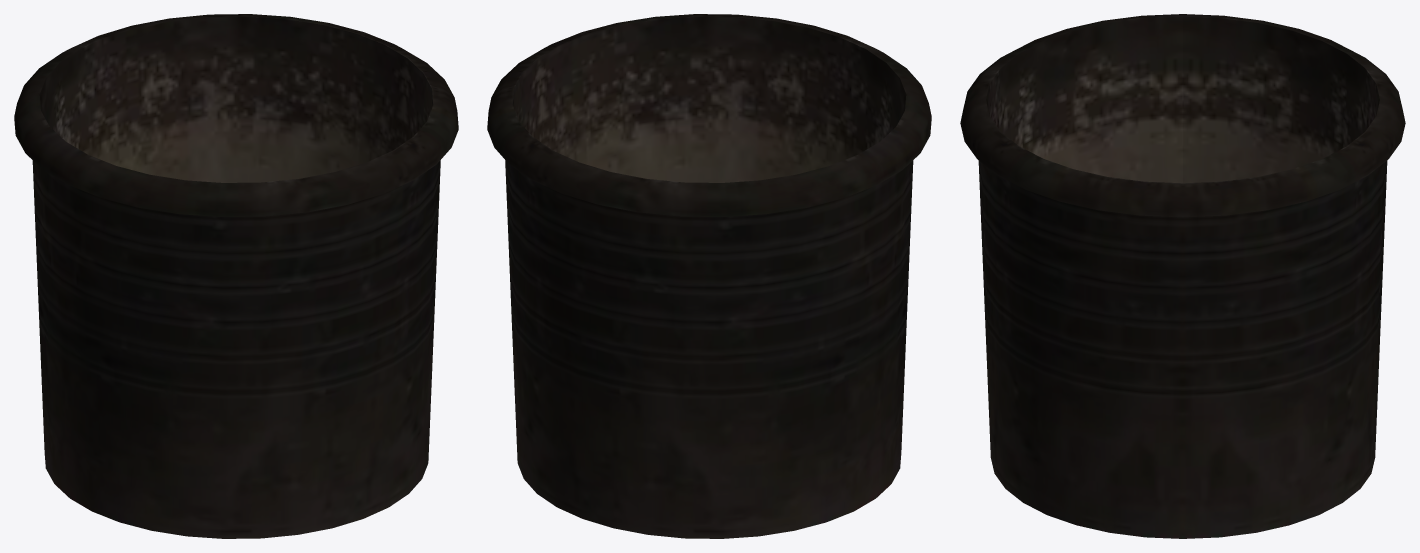
File: bucketcontainer_b.glb
3 views of the same model, side by side, from view 1: azimuth 30°, elevation 25°; view 2: azimuth 150°, elevation 25°; view 3: azimuth 270°, elevation 25° (orthographic).
Visible parts, largest first — view 1: BucketContainer_B; view 2: BucketContainer_B; view 3: BucketContainer_B.
Boxes of the visible parts, x1,y1,x2,y2 form: BucketContainer_B: [14, 14, 458, 538]; BucketContainer_B: [487, 14, 931, 538]; BucketContainer_B: [960, 14, 1405, 538].
Bounding box in the file's own units: 0.5486 × 0.4863 × 0.5486.
Materials: 1 (1 with a texture image).
